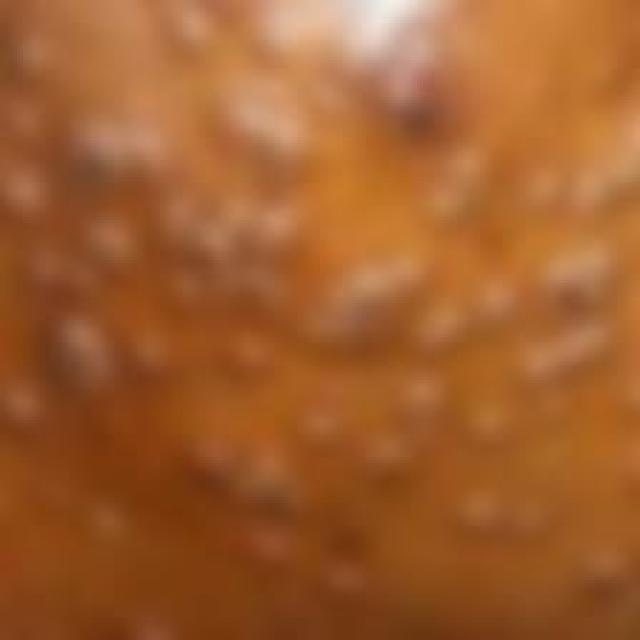monkeypox: (64, 47, 626, 640)
